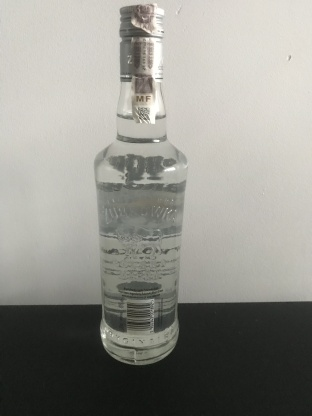nakretka: (117, 2, 165, 81)
